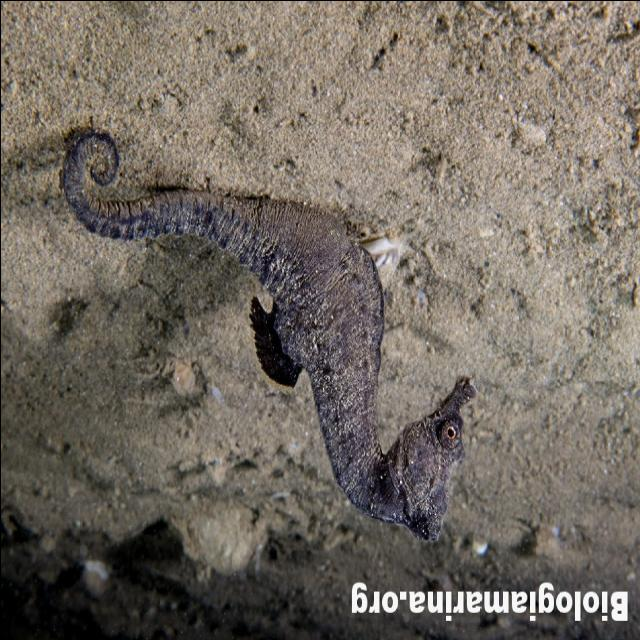Hippo: (382, 370, 479, 556)
